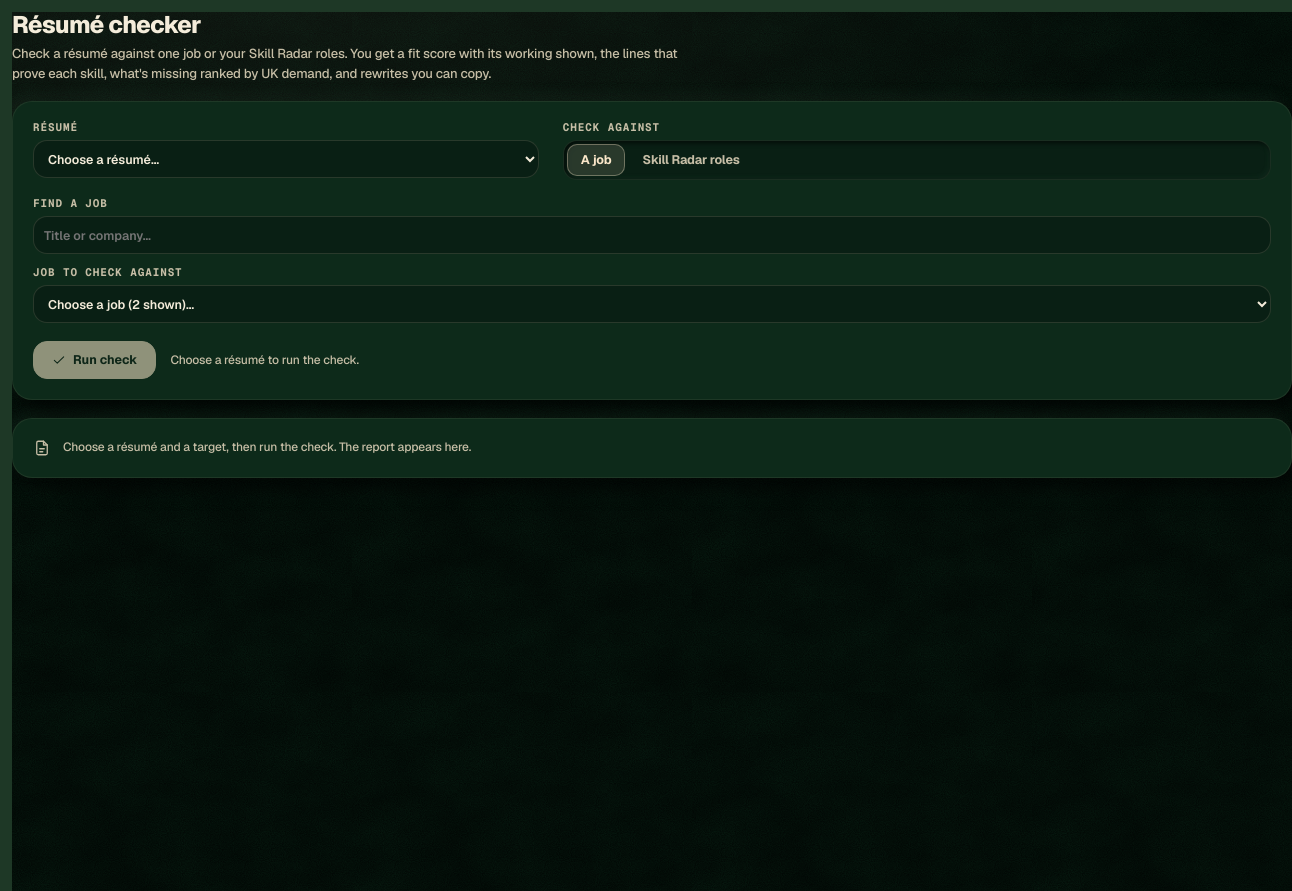
Test: ResumeCheckerPage › quotes the résumé evidence for matched skills
This screenshot has width=1292, height=891.
Select "Suraj_AIPM.pdf" in the dropdown labelled "Résumé" at (286, 159), box [33,140,539,178]
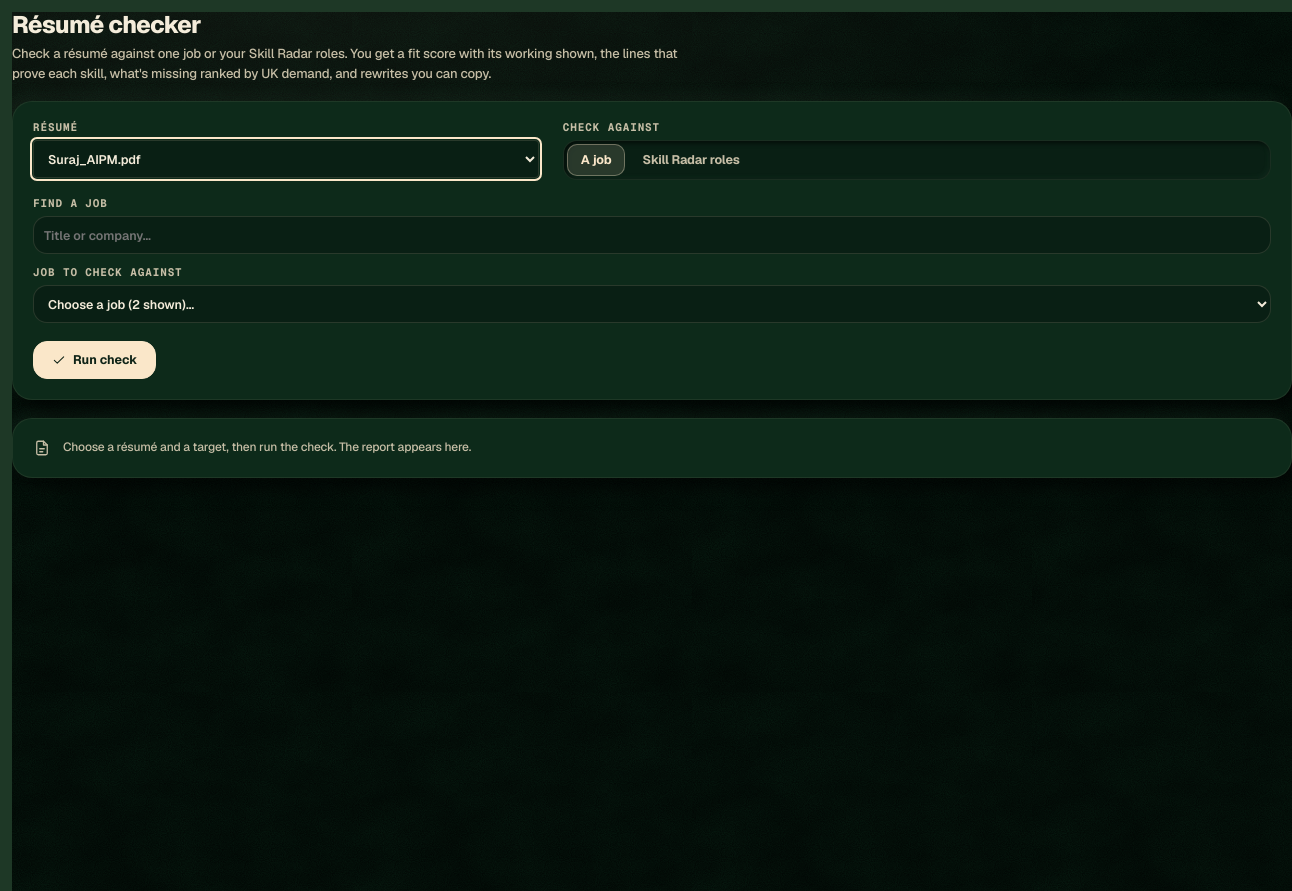
Select "Senior Frontend Engineer · Acme Corp" in the dropdown labelled "Job to check against" at (652, 304), box [33,285,1271,323]
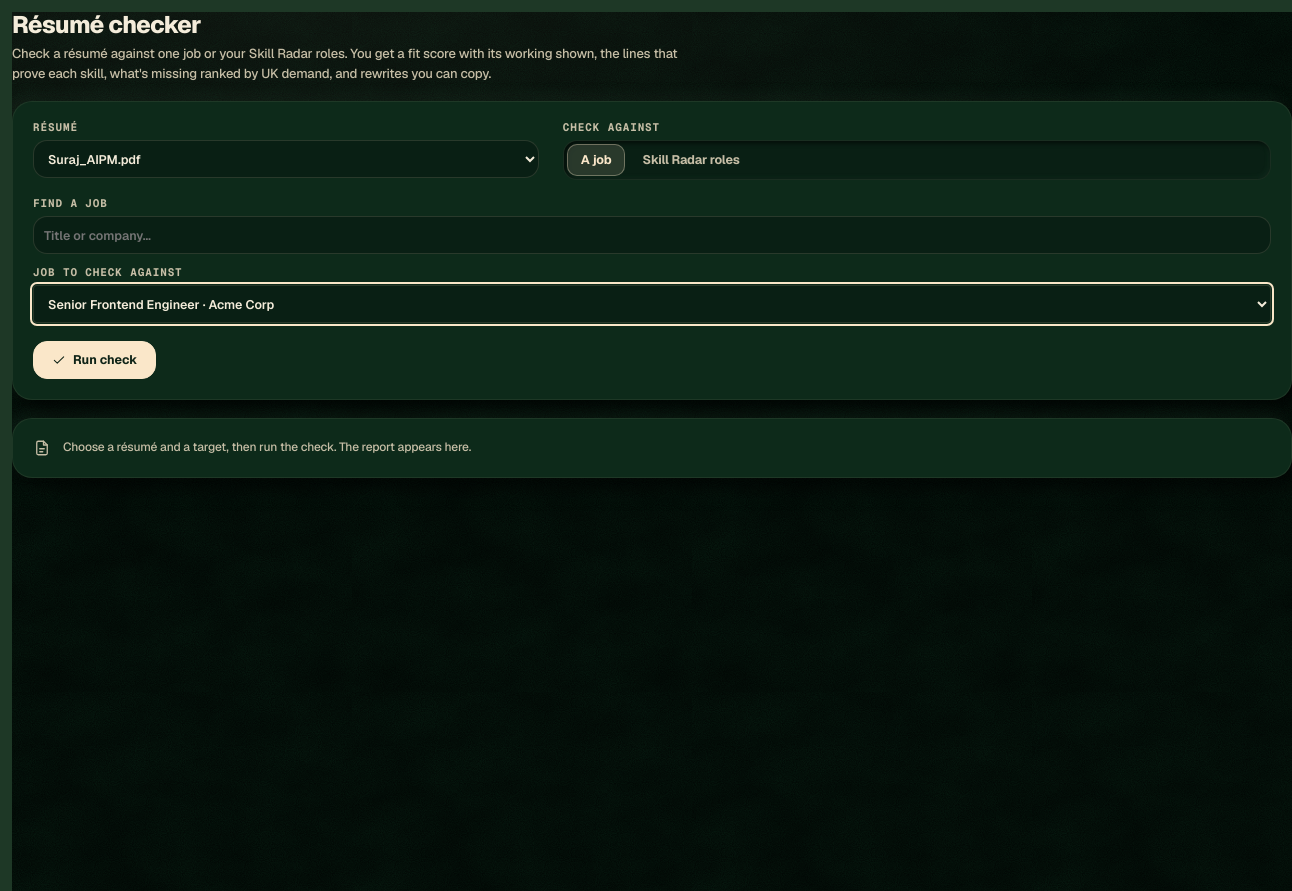
Click the button "Run check".
click(95, 360)  # box [33,341,156,379]
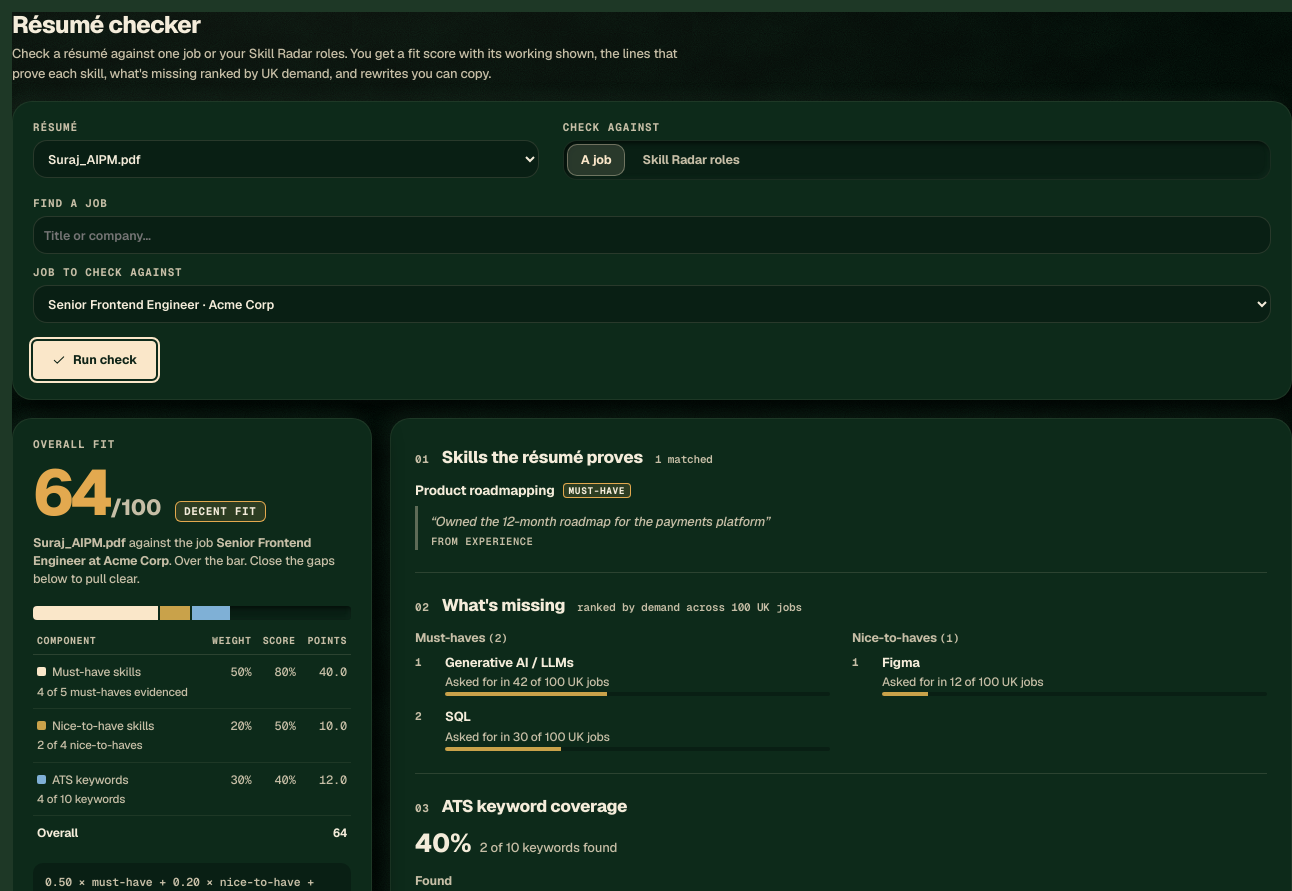
Check: the heading "Overall fit" is shown, box [33,437,115,451]
Check: the text "From experience" is shown, box [431,534,533,548]
